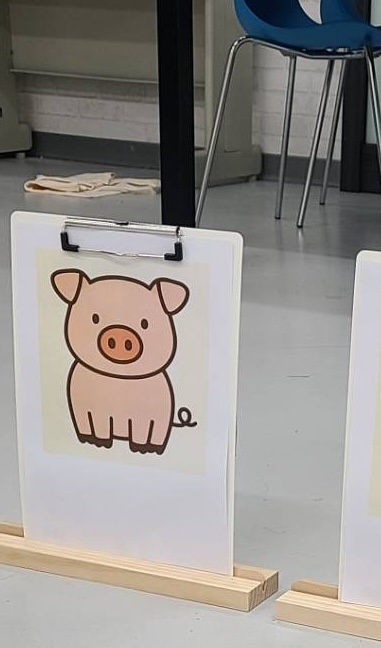pig: (48, 264, 203, 455)
